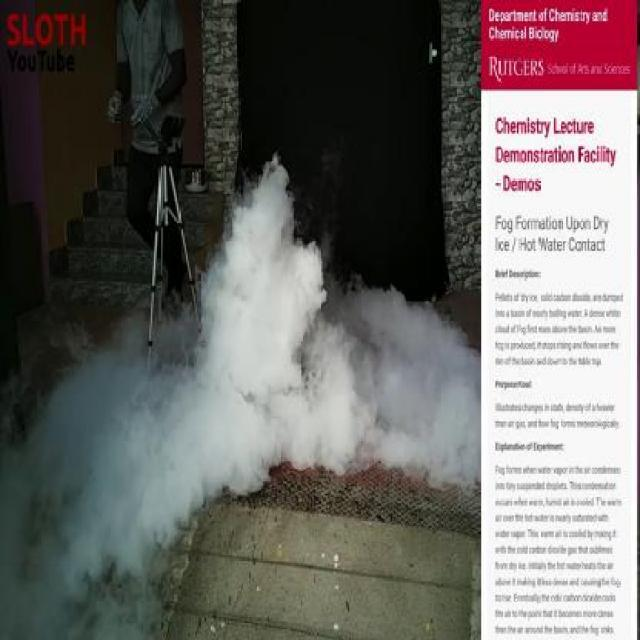smoke: (131, 199, 447, 570)
